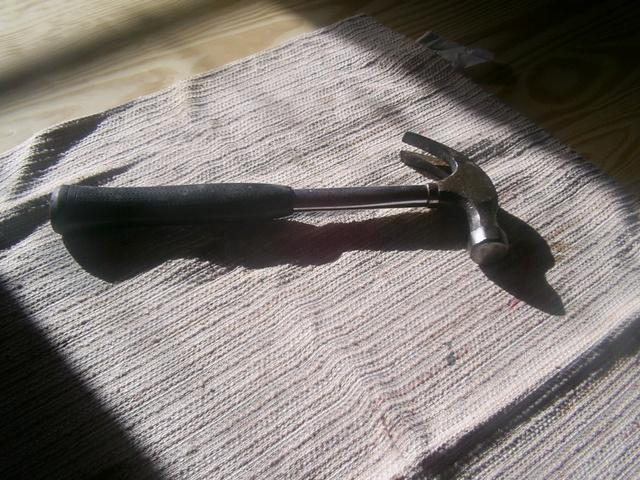hammer: (47, 126, 510, 265)
